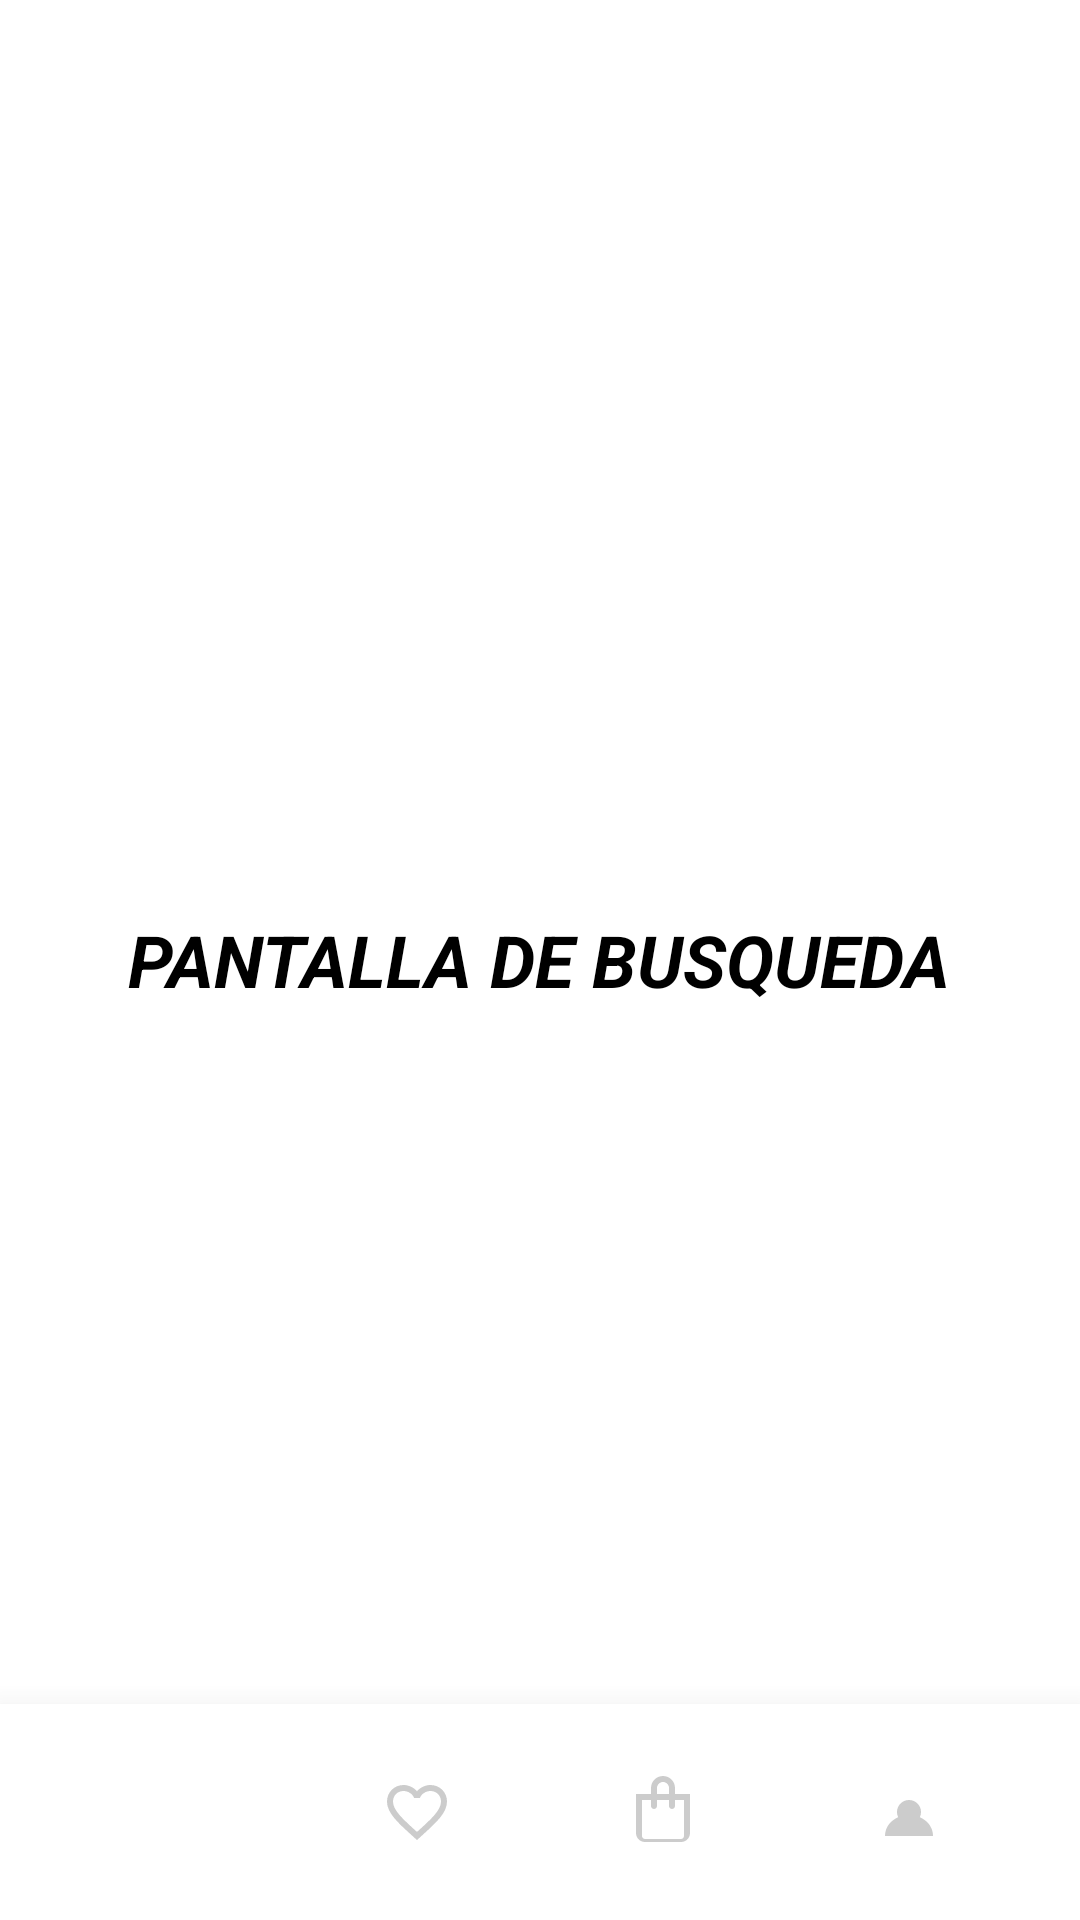

Icons on this 1080w x 1920h Android screen, each with the point to tap as (x=x, y=y):
bag: (x=663, y=1809)
heart: (x=417, y=1812)
person: (x=909, y=1818)
